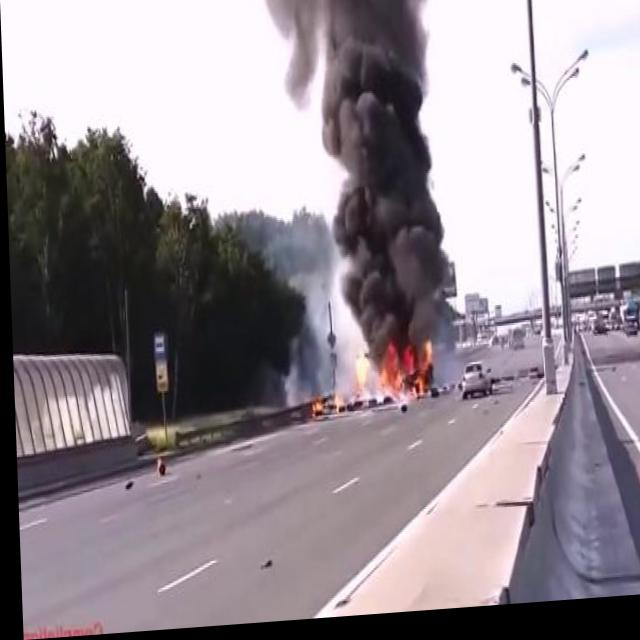fire: (346, 333, 435, 414), (306, 392, 342, 426)
